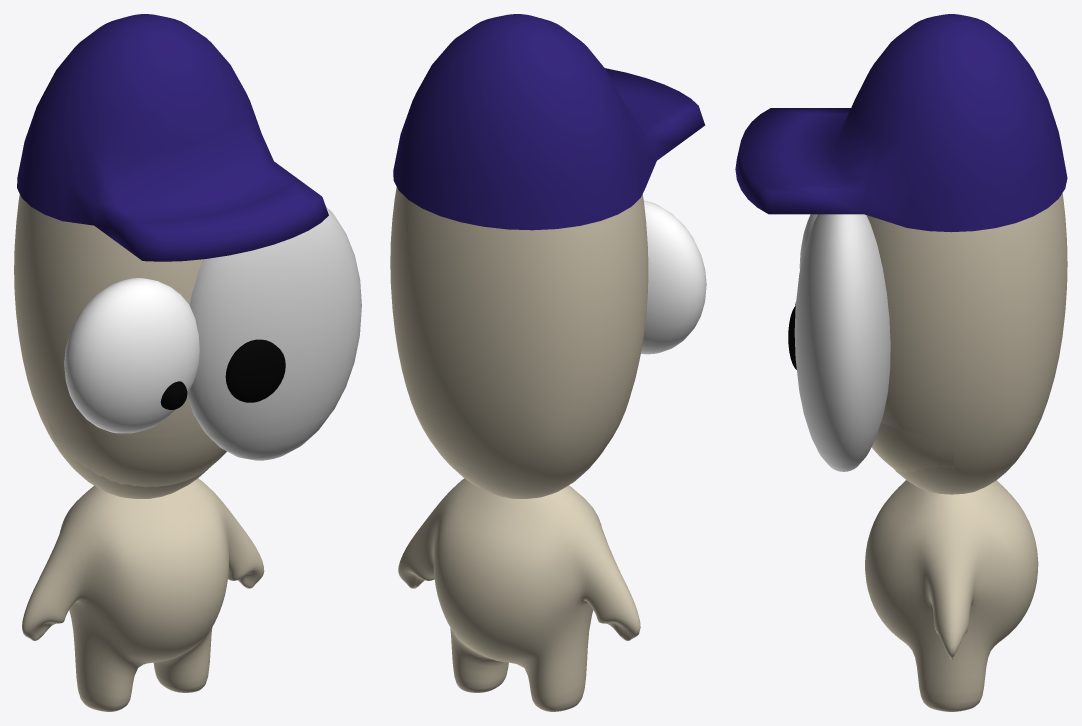
File: artoy.glb
3 renders of one model, left to right at view 1: azimuth 30°, elevation 25°; view 2: azimuth 150°, elevation 25°; view 3: azimuth 270°, elevation 25°, orthographic.
Parts seen in each view (by area): view 1: Sphere, Cube.001, Sphere.001, Cube, Sphere.002, Cube.002, Sphere.003, Sphere.004; view 2: Cube, Sphere, Cube.001, Sphere.002; view 3: Sphere, Cube, Cube.001, Sphere.001, Cube.002.
Part boxes in pixels (bbox=[...]): Sphere: bbox=[17, 14, 328, 261]; Cube.001: bbox=[22, 478, 264, 711]; Sphere.001: bbox=[187, 207, 361, 460]; Cube: bbox=[14, 194, 210, 498]; Sphere.002: bbox=[64, 278, 199, 433]; Cube.002: bbox=[47, 420, 226, 486]; Sphere.003: bbox=[225, 339, 285, 402]; Sphere.004: bbox=[160, 381, 187, 409]; Cube: bbox=[390, 187, 648, 498]; Sphere: bbox=[393, 14, 705, 230]; Cube.001: bbox=[398, 478, 640, 711]; Sphere.002: bbox=[641, 200, 706, 354]; Sphere: bbox=[735, 14, 1067, 232]; Cube: bbox=[866, 193, 1067, 494]; Cube.001: bbox=[865, 480, 1038, 711]; Sphere.001: bbox=[794, 214, 890, 471]; Cube.002: bbox=[871, 422, 953, 472].
Bounding box in the file's own units: 2.54 × 5.63 × 2.55.
